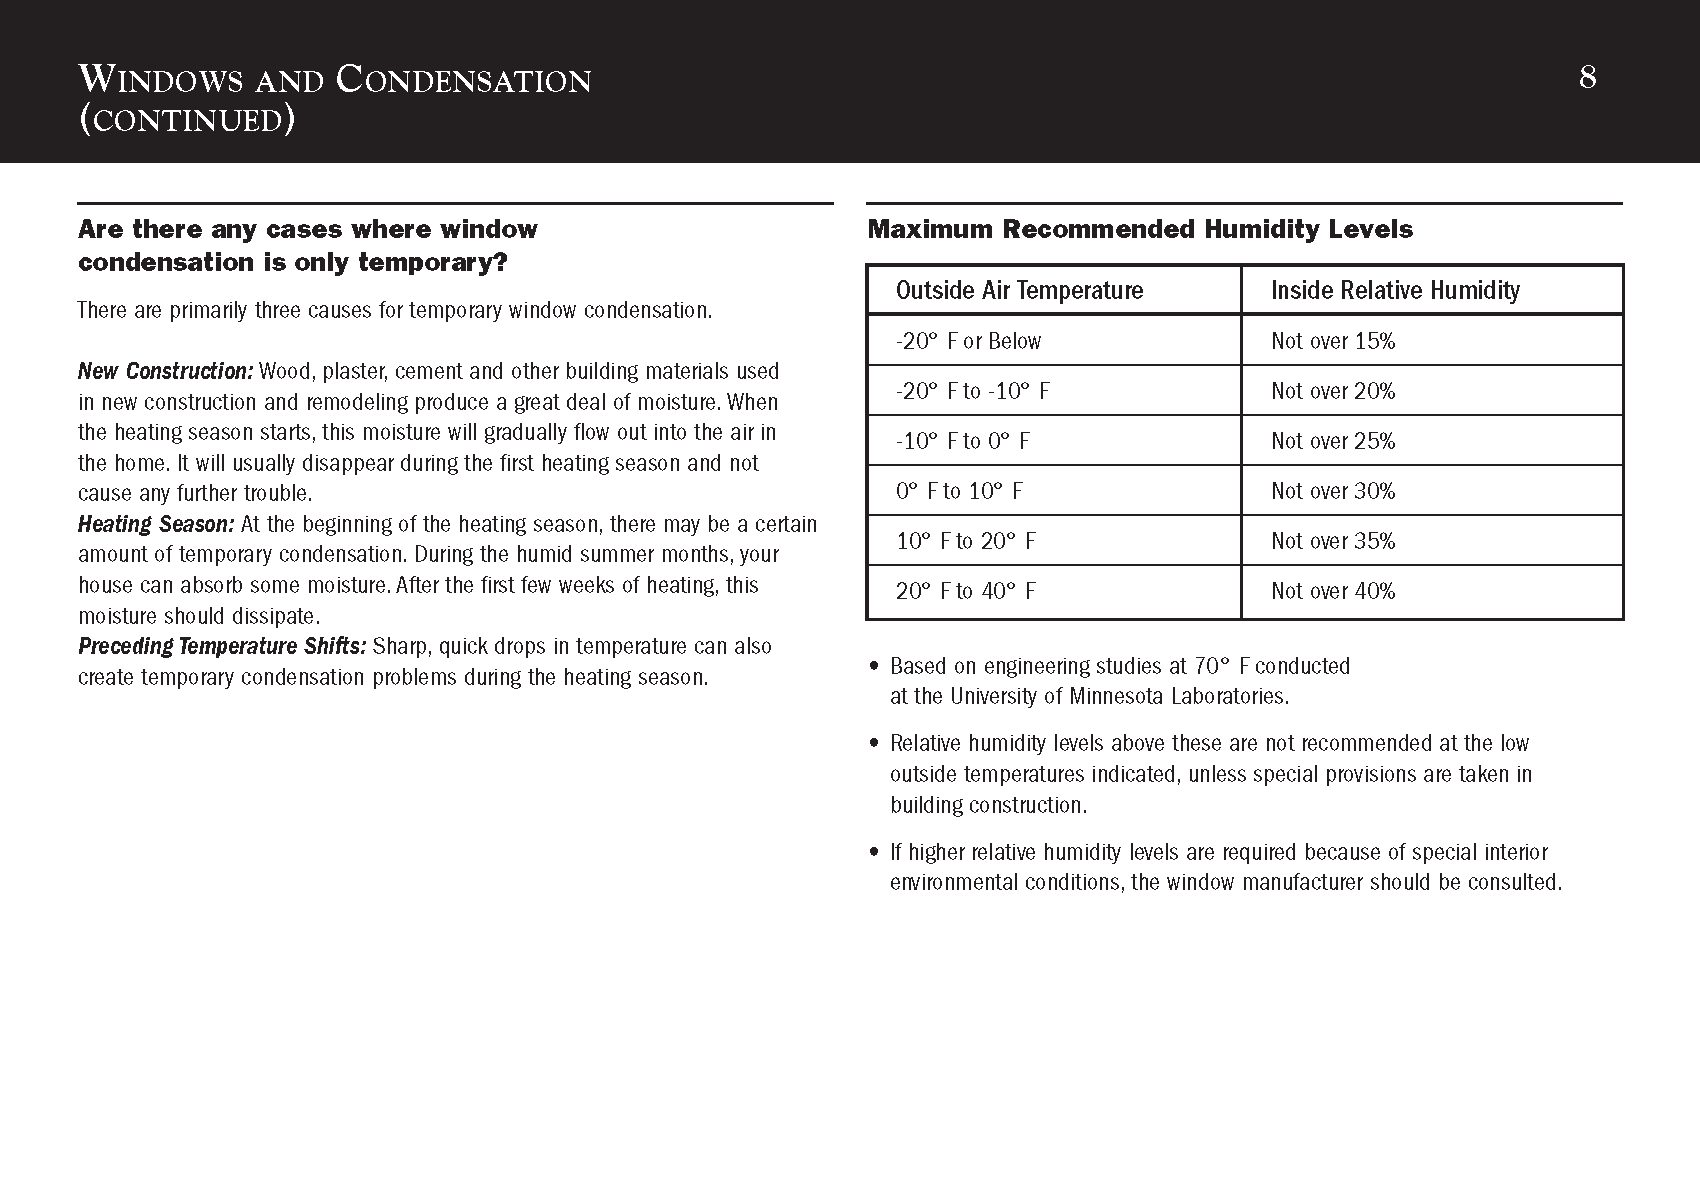tabledetected: (868, 266, 1625, 619)
